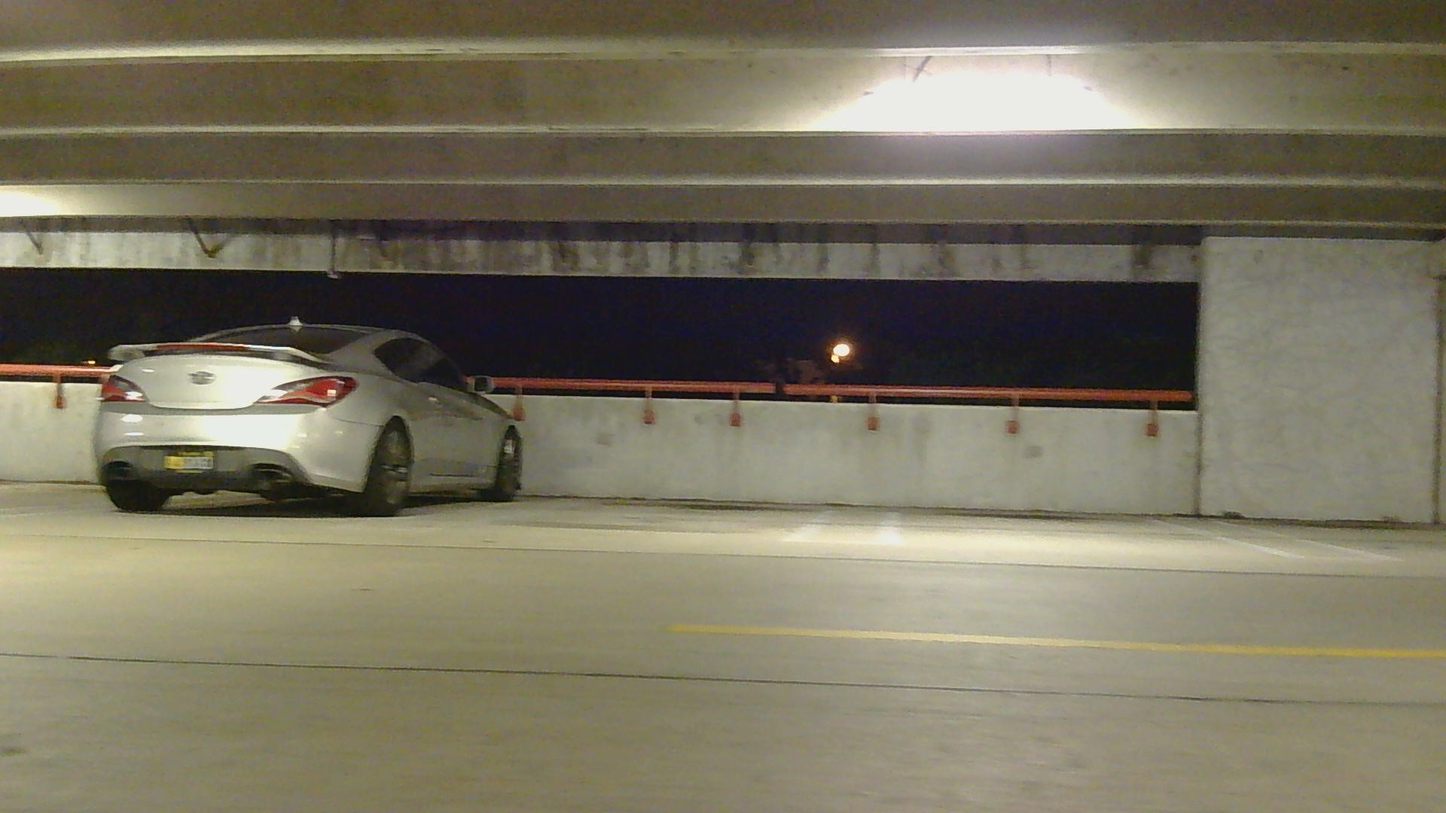empty_spot: (872, 435, 1355, 564), (477, 422, 871, 548), (1197, 448, 1445, 566)
occupied_spot: (85, 317, 533, 518)
